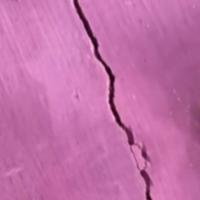crack: (70, 1, 157, 199)
